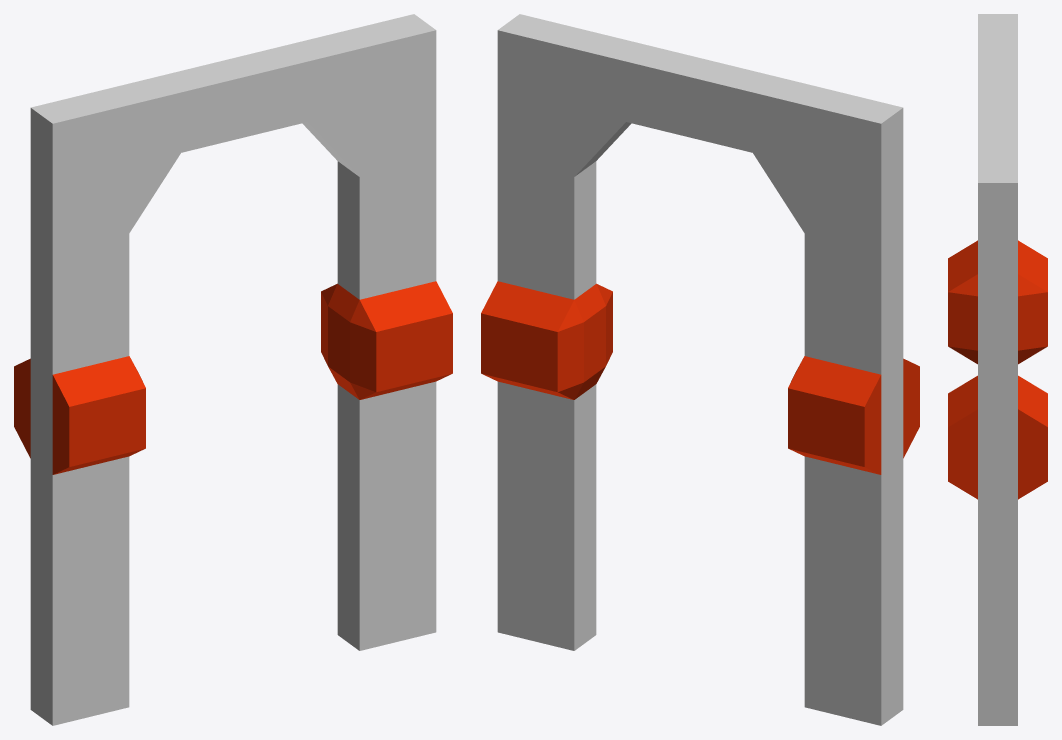
File: Entrance.fbx
3 views of the same model, side by side, from view 1: azimuth 30°, elevation 25°; view 2: azimuth 150°, elevation 25°; view 3: azimuth 270°, elevation 25° (orthographic). The views are drawn at different scales.
Parts seen in each view (by area): view 1: Wall0; view 2: Wall0; view 3: Wall0.
Boxes of the visible parts, x1,y1,x2,y2 form: Wall0: (14, 14, 452, 725); Wall0: (481, 14, 919, 725); Wall0: (948, 14, 1047, 725).
Size of the model in its own units: 200 by 300 by 50.
